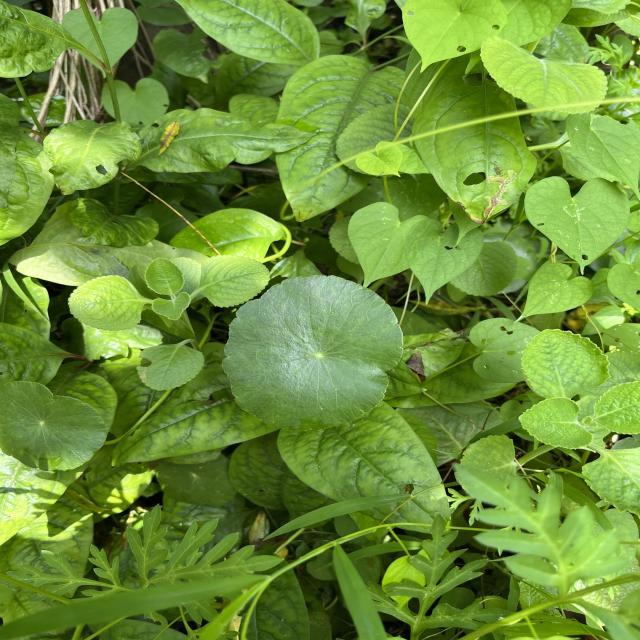Bacopa monnieri: (220, 272, 407, 432), (0, 378, 111, 474)
